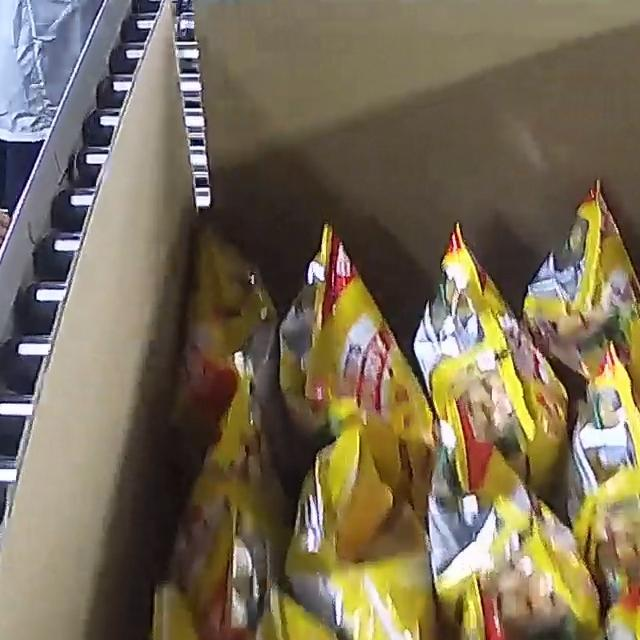salted: (136, 177, 640, 640)
